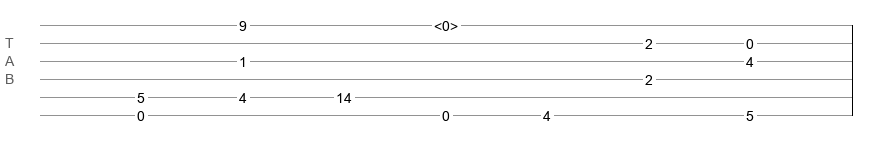0: (137, 108, 145, 118), (442, 108, 450, 118), (746, 36, 754, 46)
1: (239, 54, 247, 64)
14: (336, 90, 352, 100)
2: (645, 36, 653, 46), (645, 72, 653, 82)
4: (239, 90, 247, 100), (543, 108, 551, 118), (746, 54, 754, 64)
5: (137, 90, 145, 100), (746, 108, 754, 118)
9: (239, 18, 247, 28)
harmonic: (434, 18, 458, 28)
